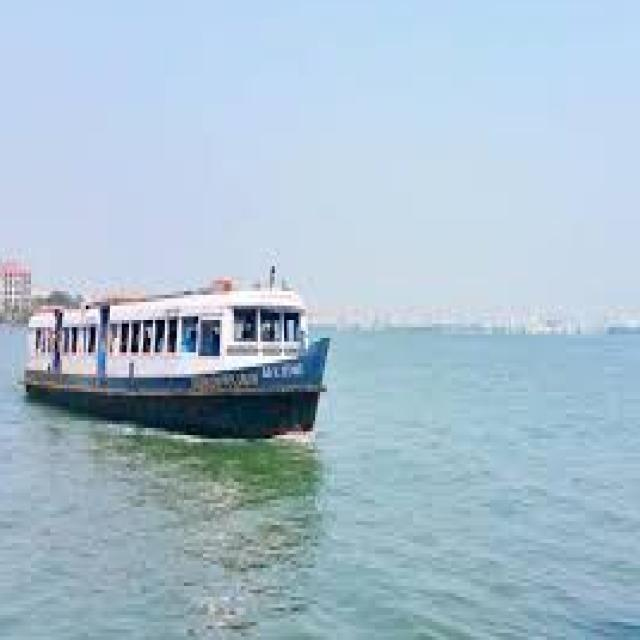houseboat: (9, 266, 330, 416)
